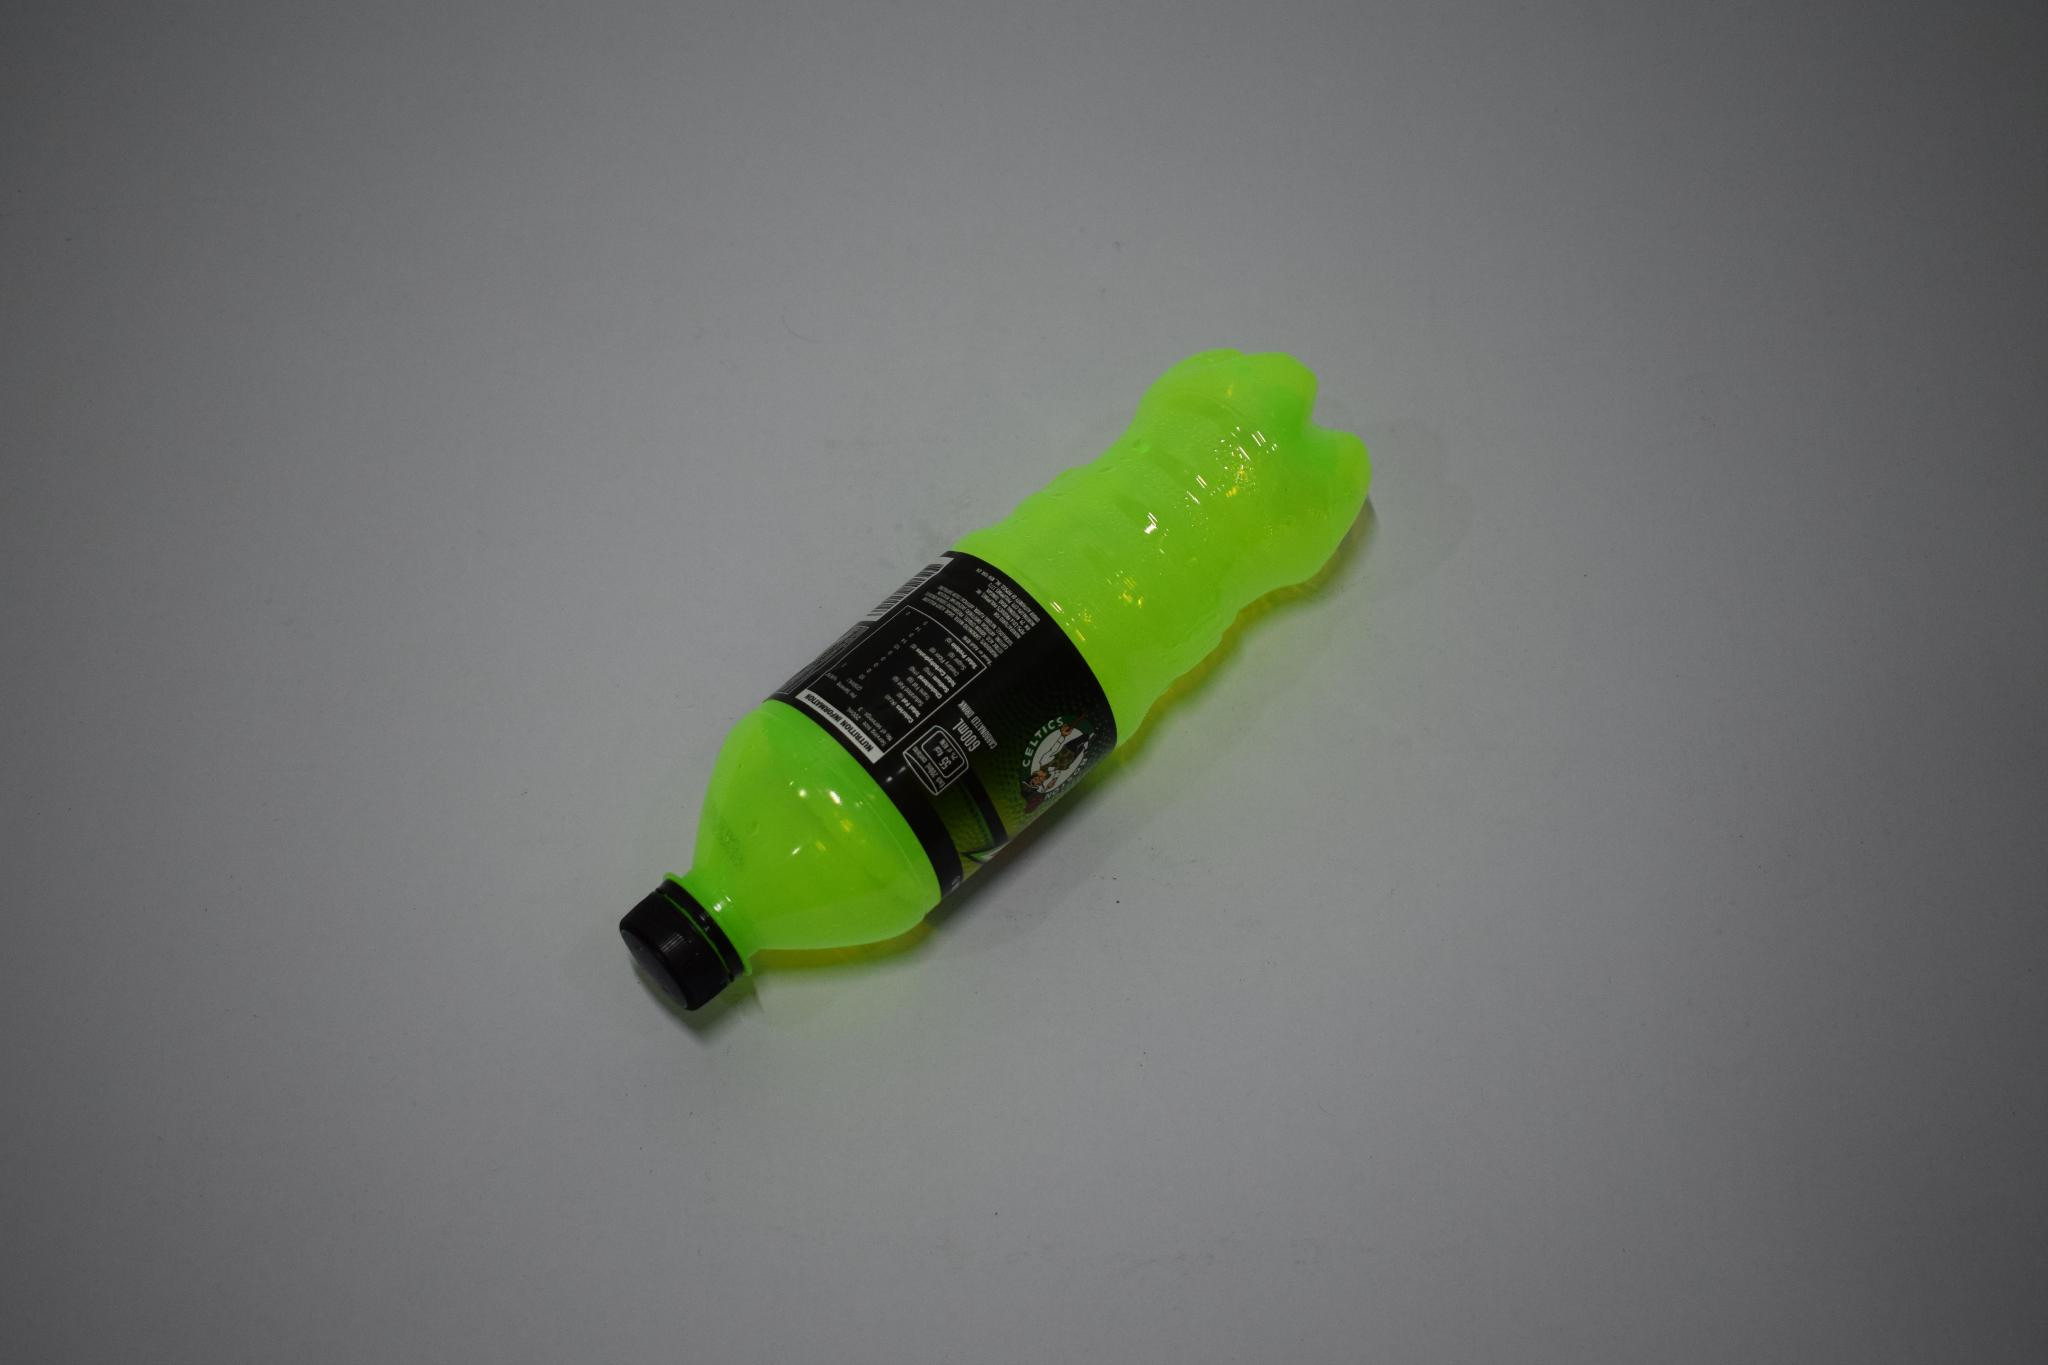bottle: (617, 346, 1373, 1041)
